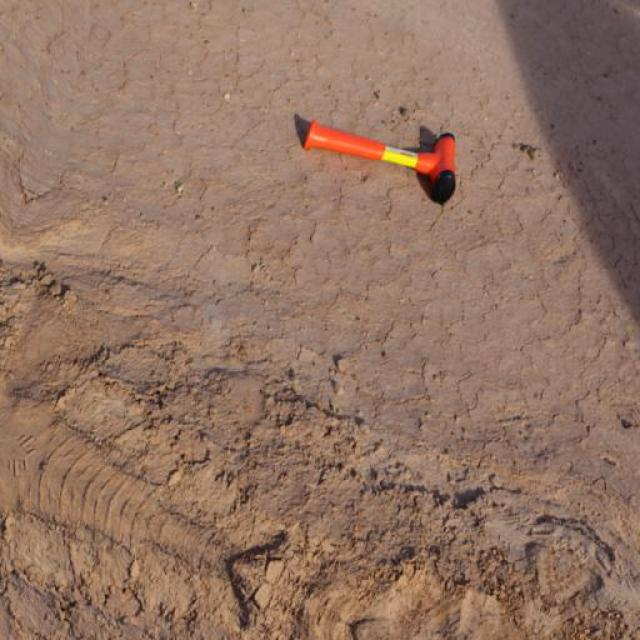mallet: (294, 111, 458, 205)
